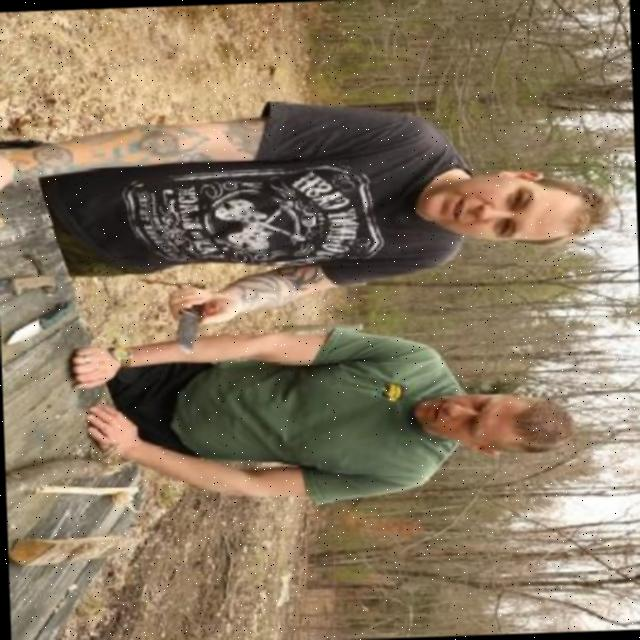Knife: (170, 278, 213, 352), (6, 298, 78, 340), (0, 255, 59, 299)
